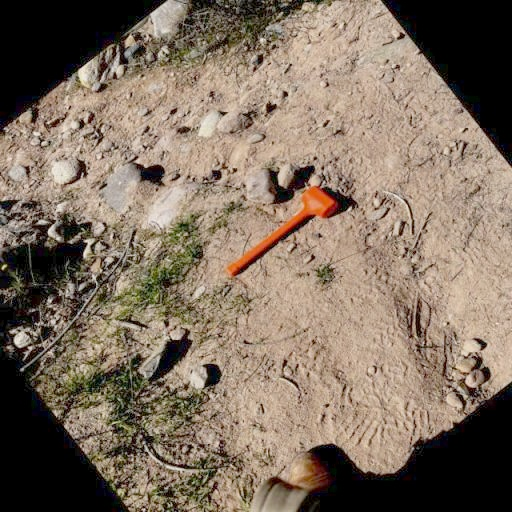mallet: (218, 180, 342, 286)
